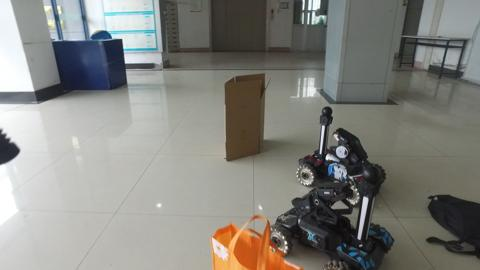bag: (210, 213, 303, 270)
box: (220, 71, 268, 161)
chariot: (271, 175, 400, 268), (293, 106, 388, 206)
